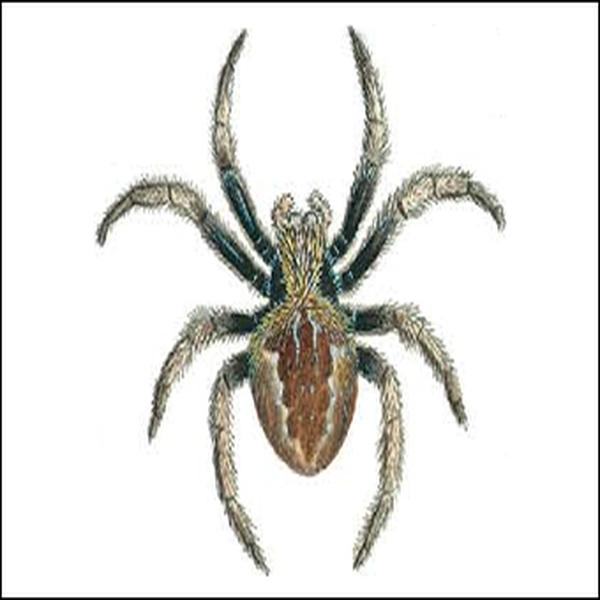Garden Orb Weaver Spider: (114, 36, 486, 557)
